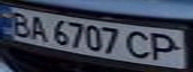0: (81, 23, 103, 53)
6: (48, 17, 72, 47)
7: (100, 25, 124, 56), (66, 20, 84, 50)
A: (24, 14, 51, 43)
B: (3, 9, 33, 38)
C: (124, 28, 154, 61)
P: (145, 30, 187, 63)
